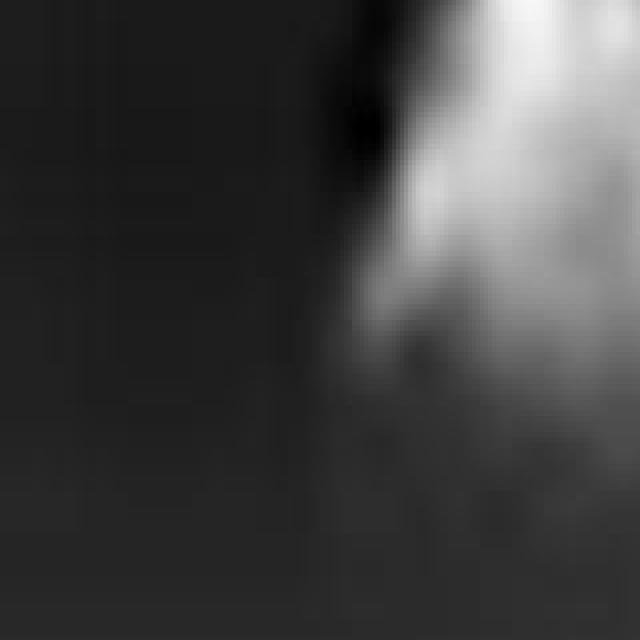person: (341, 1, 640, 534)
